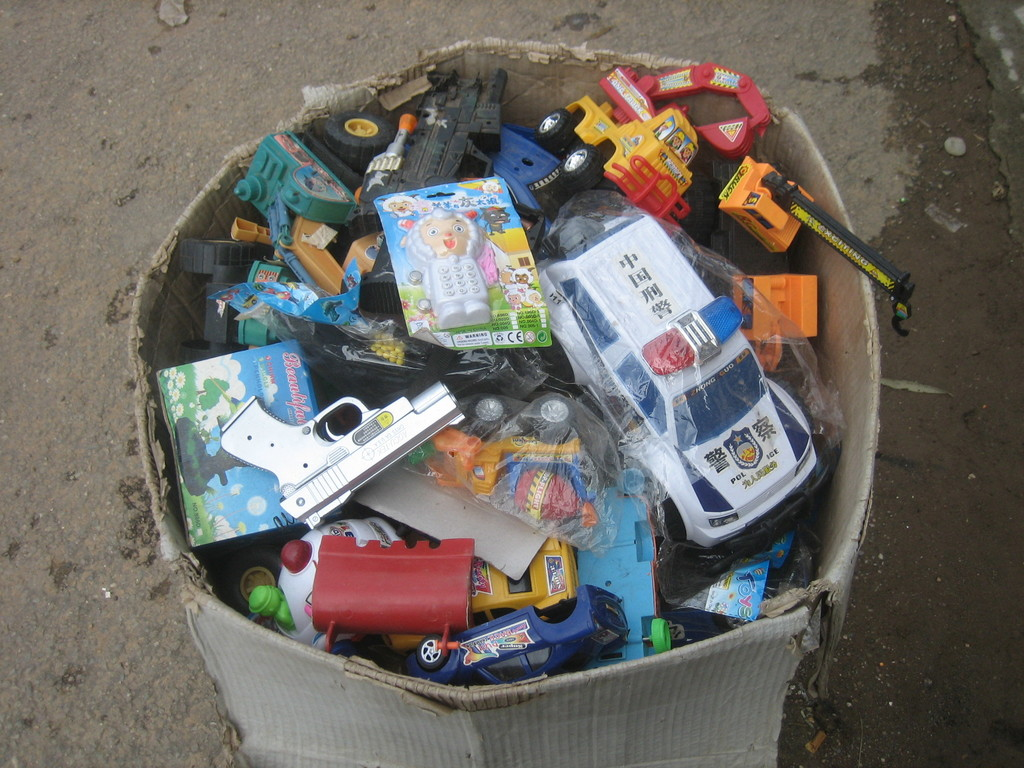Car: (539, 207, 828, 544), (403, 584, 629, 689), (382, 540, 577, 650)
